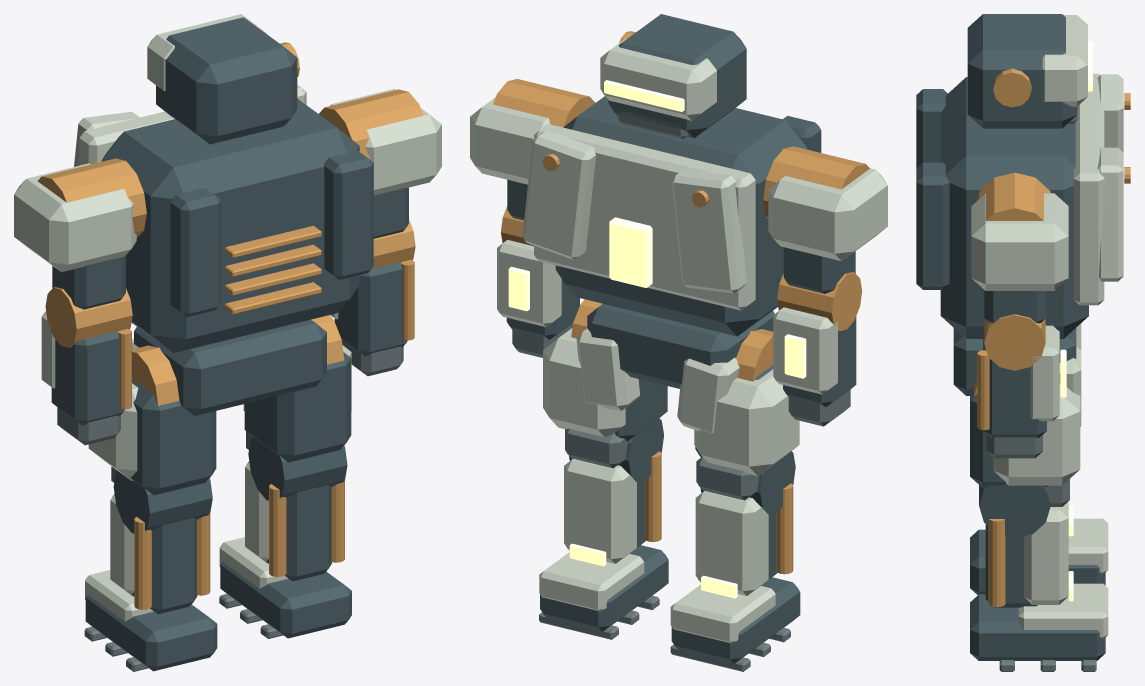
The model's file is wraith.glb.
3 views of the same model, side by side, from view 1: azimuth 30°, elevation 25°; view 2: azimuth 150°, elevation 25°; view 3: azimuth 270°, elevation 25° (orthographic). The views are drawn at different scales.
Parts seen in each view (by area): view 1: torso, upper_arm_L, head, thigh_L, thigh_R, upper_arm_R, pelvis, forearm_L, shin_L, shin_R, foot_L, foot_R (+1 smaller); view 2: torso, upper_arm_L, head, pelvis, thigh_L, thigh_R, shin_L, shin_R, upper_arm_R, foot_L, foot_R, forearm_L (+1 smaller); view 3: torso, upper_arm_R, head, thigh_R, foot_R, forearm_R, shin_R, foot_L, pelvis.
Boxes of the visible parts, left/top/right/bottom form: torso: left=74, top=85, right=373, bottom=352; upper_arm_L: left=14, top=158, right=146, bottom=347; head: left=147, top=14, right=299, bottom=144; thigh_L: left=88, top=345, right=216, bottom=533; thigh_R: left=243, top=315, right=351, bottom=500; upper_arm_R: left=319, top=89, right=441, bottom=268; pelvis: left=132, top=319, right=326, bottom=415; forearm_L: left=41, top=311, right=131, bottom=445; shin_L: left=110, top=494, right=210, bottom=614; shin_R: left=245, top=461, right=344, bottom=581; foot_L: left=84, top=570, right=217, bottom=671; foot_R: left=219, top=537, right=351, bottom=638; torso: left=522, top=96, right=821, bottom=336; upper_arm_L: left=763, top=146, right=887, bottom=331; head: left=600, top=14, right=746, bottom=138; pelvis: left=576, top=304, right=774, bottom=433; thigh_L: left=694, top=329, right=799, bottom=514; thigh_R: left=543, top=299, right=667, bottom=482; shin_L: left=695, top=483, right=793, bottom=598; shin_R: left=564, top=451, right=661, bottom=566; upper_arm_R: left=470, top=79, right=595, bottom=246; foot_L: left=670, top=577, right=800, bottom=671; foot_R: left=539, top=545, right=668, bottom=639; forearm_L: left=773, top=307, right=856, bottom=426; torso: left=916, top=73, right=1130, bottom=338; upper_arm_R: left=971, top=172, right=1068, bottom=370; head: left=967, top=14, right=1092, bottom=128; thigh_R: left=970, top=376, right=1080, bottom=538; foot_R: left=970, top=583, right=1108, bottom=671; forearm_R: left=977, top=325, right=1066, bottom=458; shin_R: left=985, top=501, right=1073, bottom=607; foot_L: left=970, top=518, right=1108, bottom=594; pelvis: left=953, top=323, right=1081, bottom=426.
Size of the model in its own units: 1.75 by 2.55 by 0.837.
